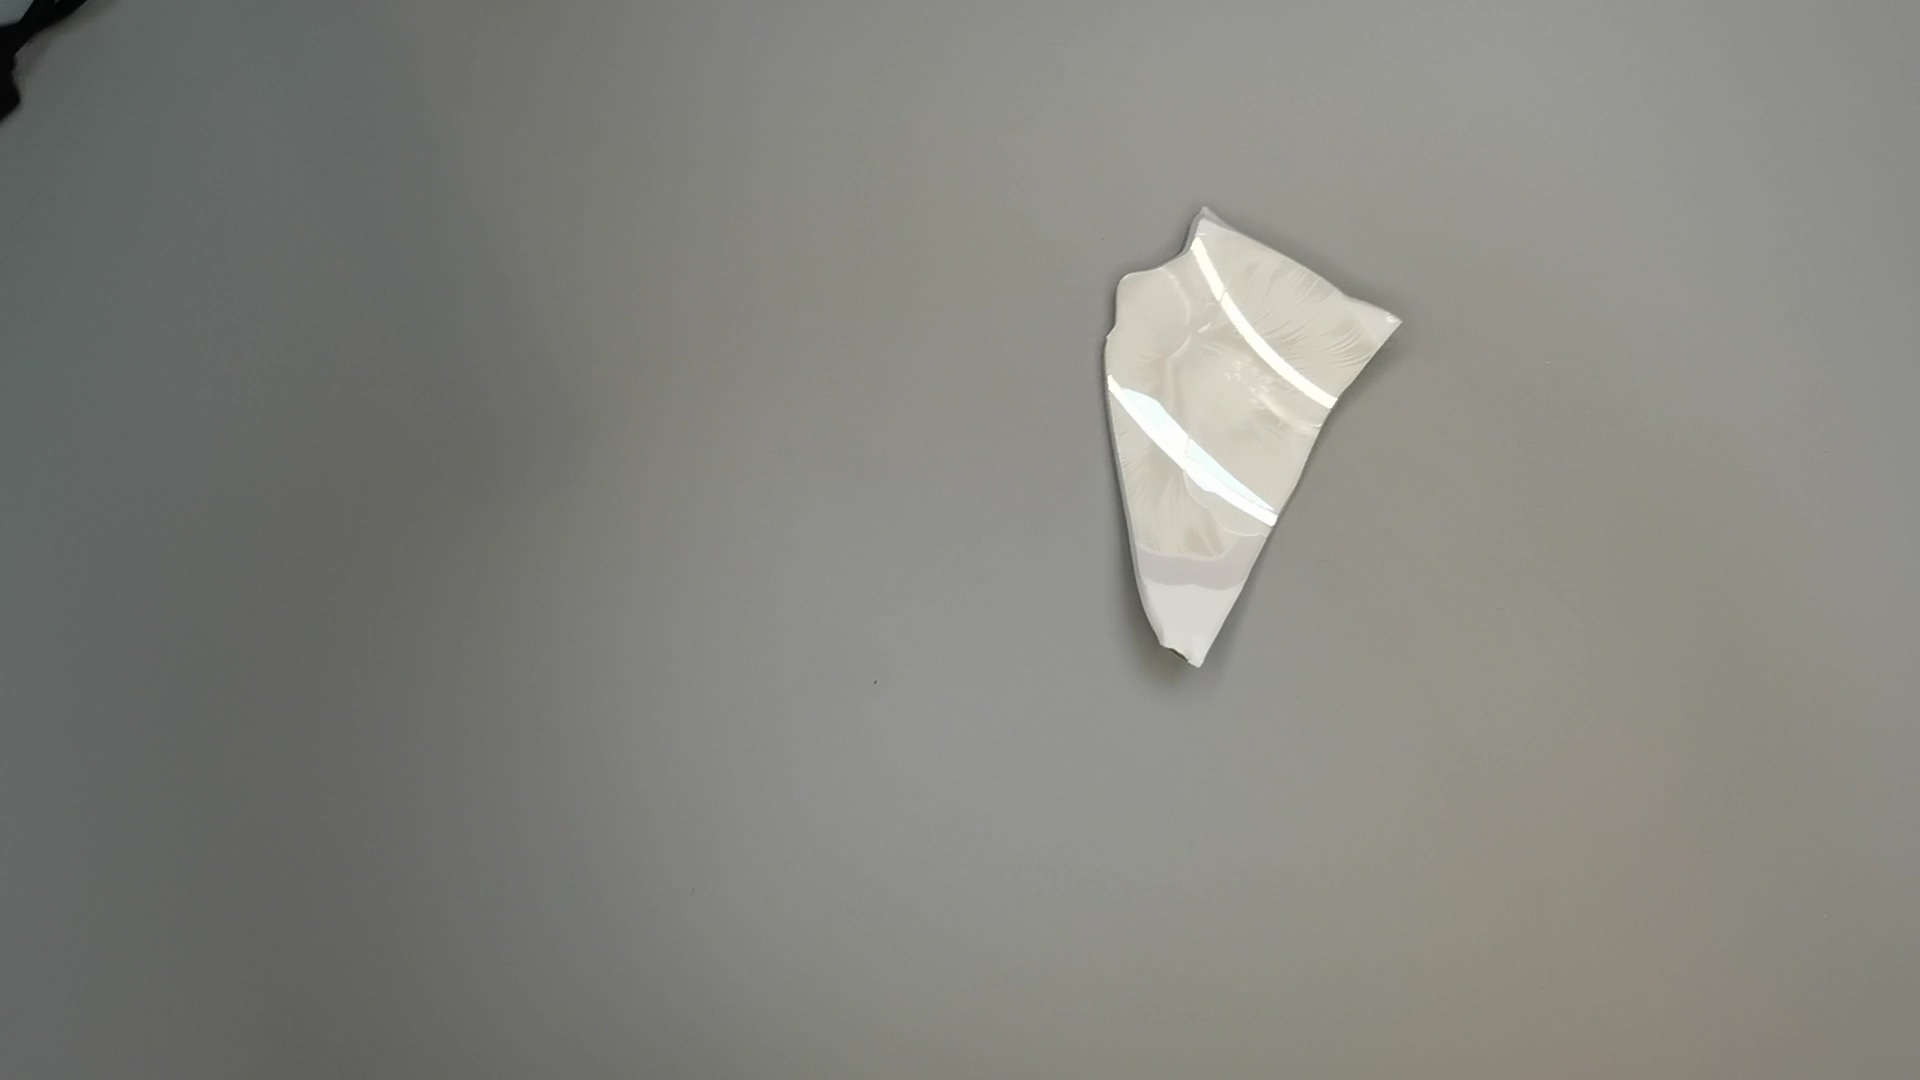ceramic: (1095, 202, 1408, 688)
